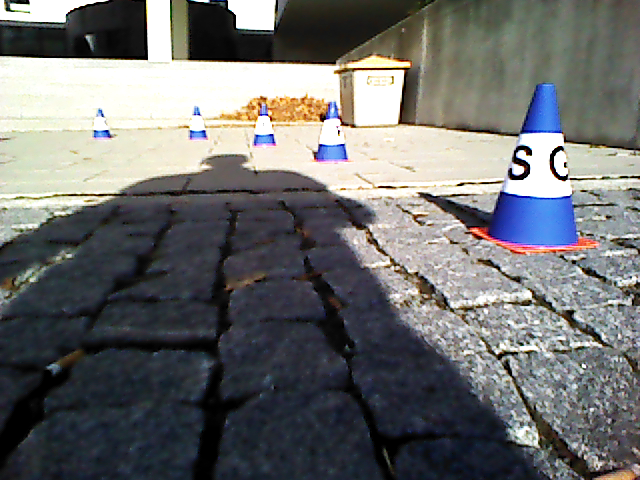bluecone: (492, 83, 578, 242), (314, 103, 347, 159), (254, 105, 275, 144), (188, 107, 206, 139), (94, 110, 110, 138)
